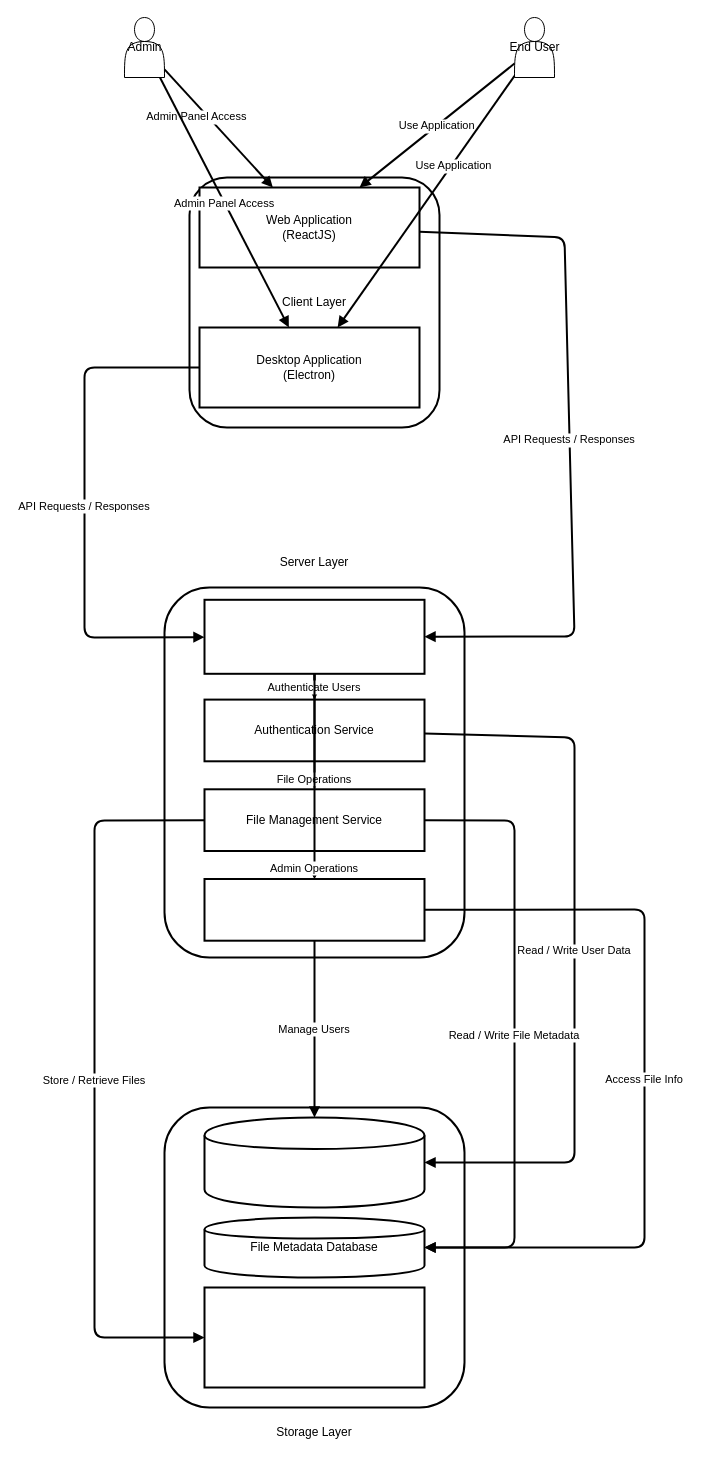
Some shapes in this 701 by 1465 pixel diagram are drawn without their labels. Each missing label, with the box of its shape:
Admin Service: (203, 878, 425, 941)
Backend API (Node.js / Express): (203, 598, 425, 674)
File Storage (Local Disk / Cloud Storage): (203, 1286, 425, 1388)
User Database (MongoDB / MySQL): (203, 1116, 425, 1208)
